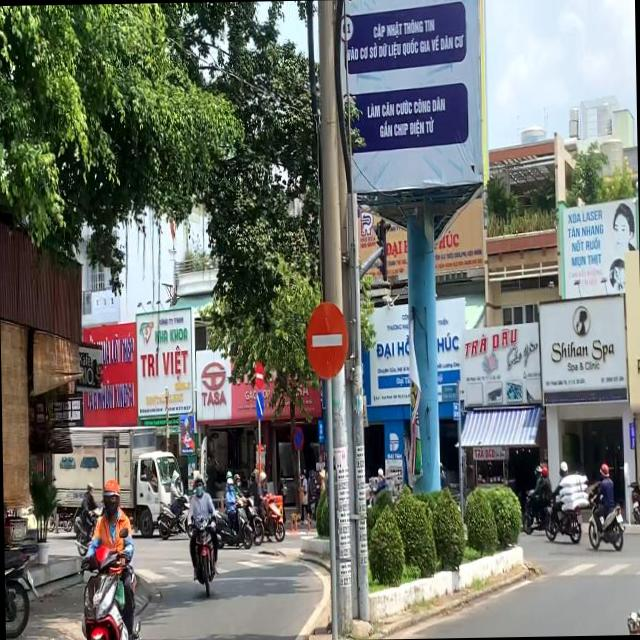P-102: (308, 300, 347, 379)
